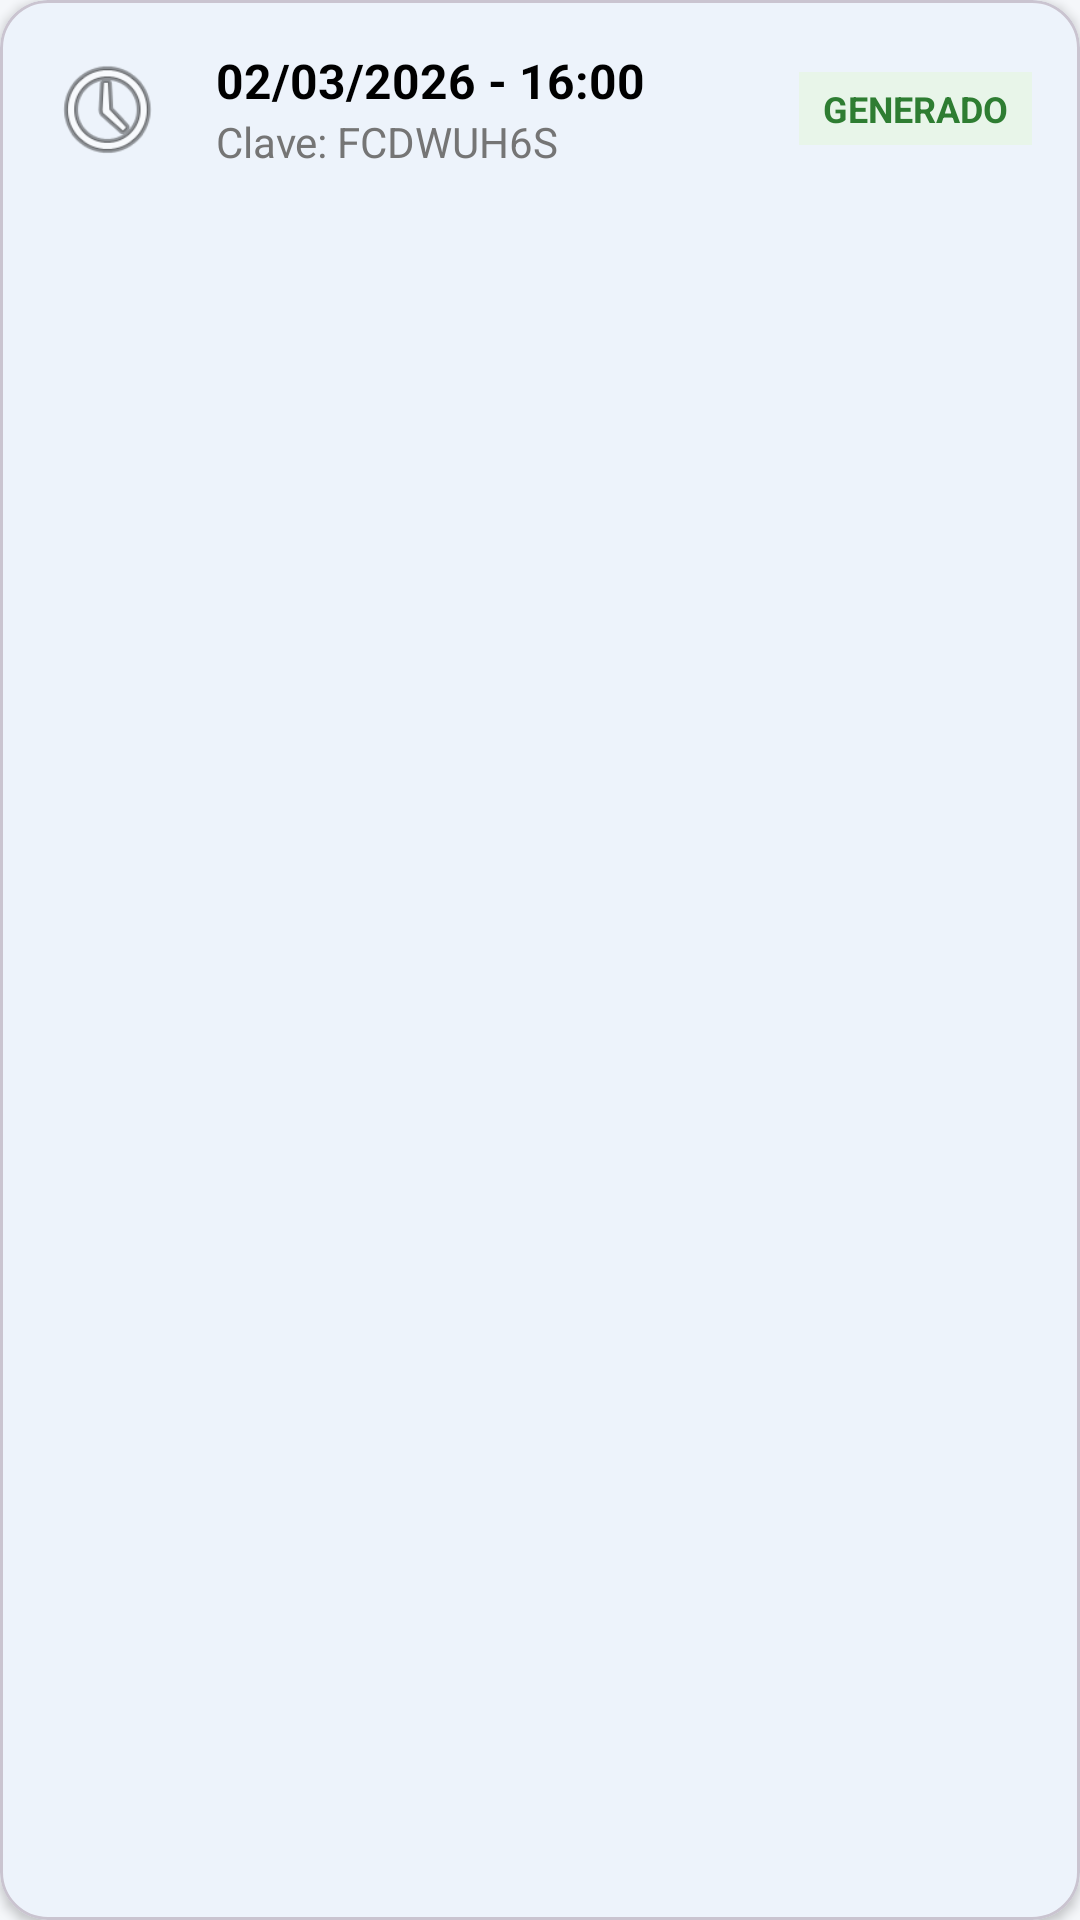

Screen size 1080*1920. Icon name, then its center in pixels as [x,y]:
recent history: [107,109]
